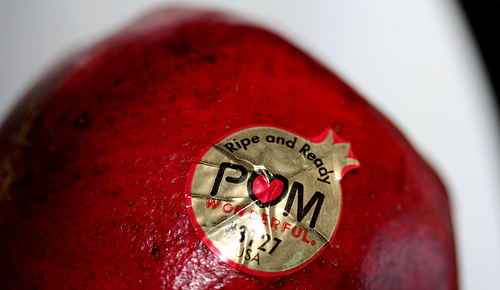pomogranate: (0, 9, 457, 287)
